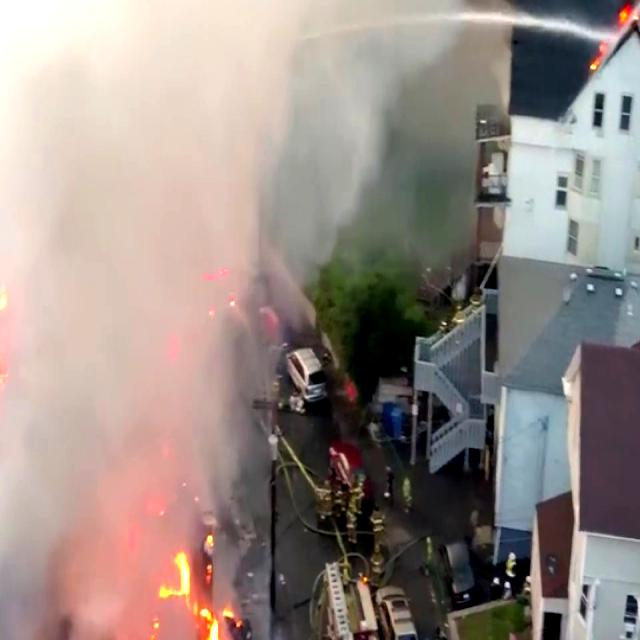smoke: (12, 0, 176, 492)
